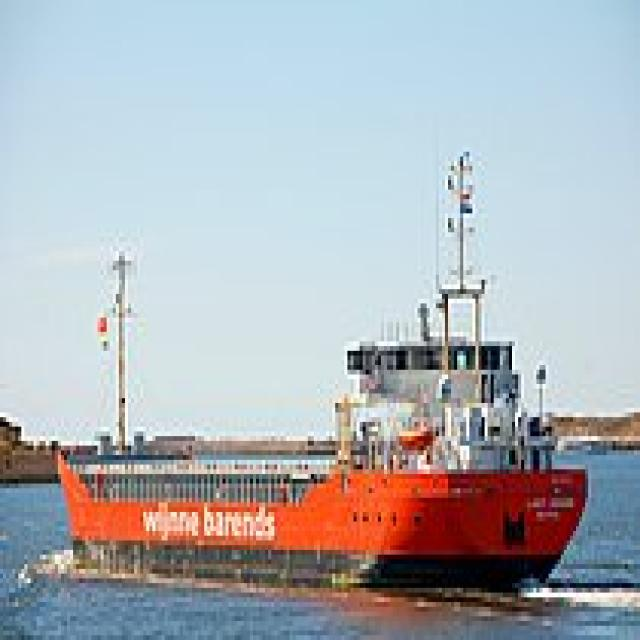Cargo: (49, 147, 588, 593)
